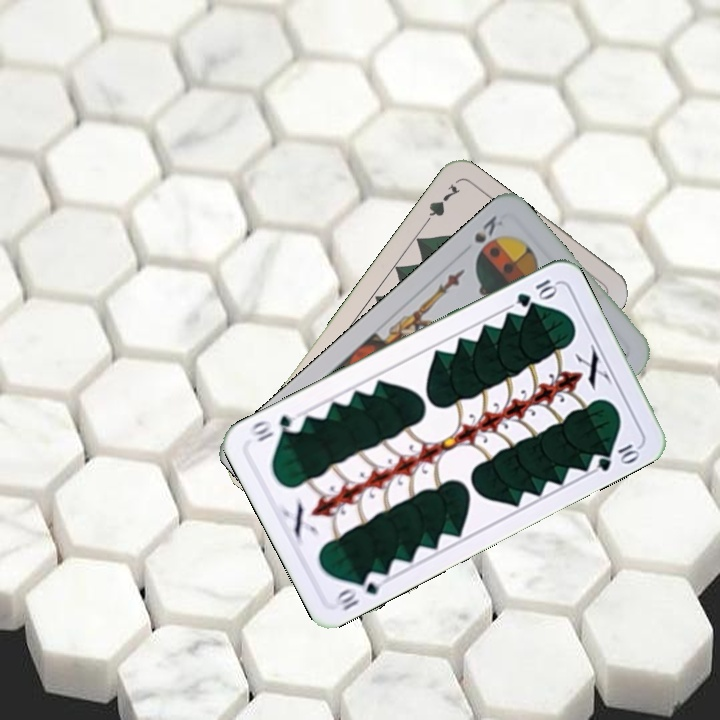G10: (330, 567, 388, 613), (512, 275, 560, 310)
G7: (418, 180, 463, 231)
SK: (470, 211, 506, 246)
